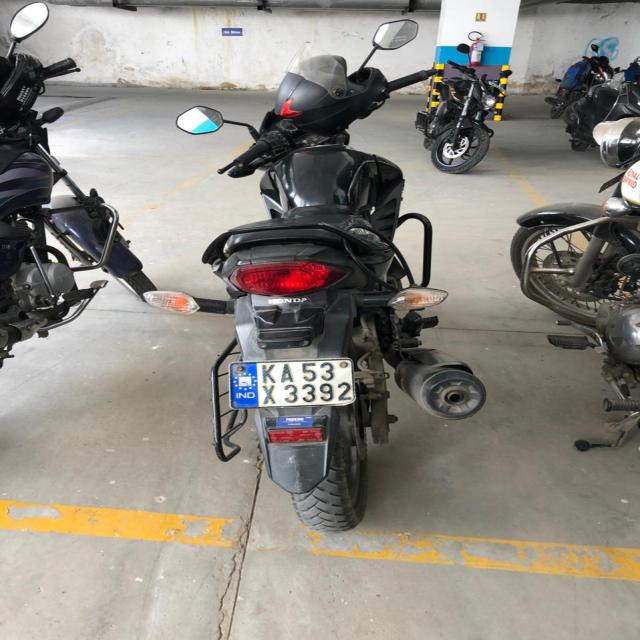license_plate: (228, 356, 357, 408)
